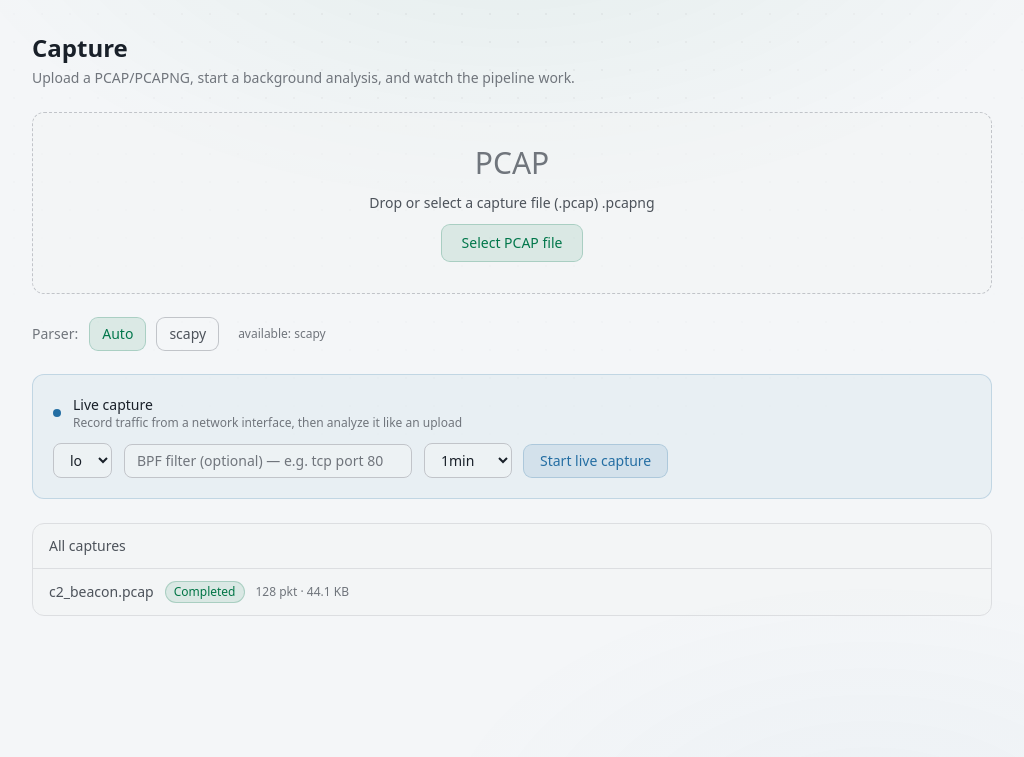
Scenario: CapturePage › selecting a capture from the list shows its detail card (completed)
// click the capture row in the "All captures" list
Click the text "c2_beacon.pcap" at (101, 592), box [49,582,154,602]
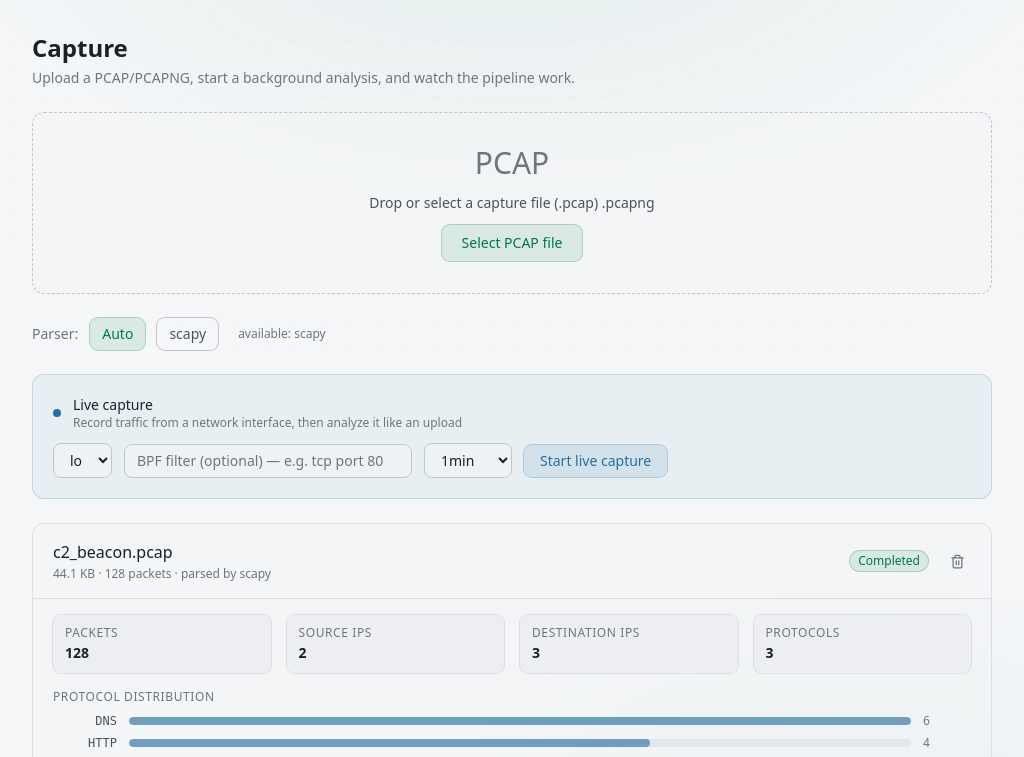
Now the text "44.1 KB · 128 packets · parsed by scapy" is shown, box [53,565,271,582]
